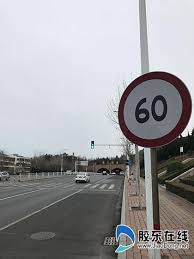Speed_limit_60km: (117, 70, 191, 147)
